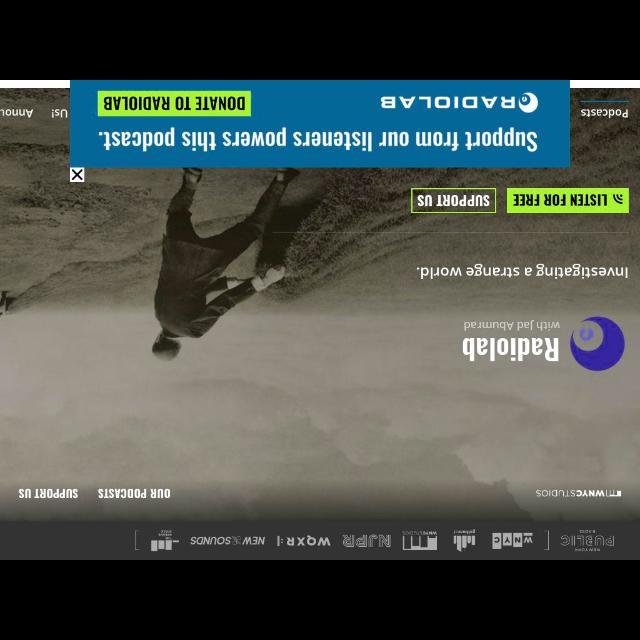backgroundimage: (1, 89, 637, 522)
icon: (131, 528, 141, 552), (543, 526, 551, 554), (613, 192, 625, 206)
iframe: (69, 82, 569, 168)
image: (456, 312, 626, 378), (530, 485, 626, 501), (559, 528, 615, 554), (190, 532, 270, 550), (488, 526, 536, 554), (339, 528, 393, 552), (276, 532, 334, 550), (144, 528, 183, 554), (399, 528, 441, 552), (449, 526, 481, 554)
text: (416, 262, 630, 282), (512, 193, 606, 207), (95, 487, 169, 503), (18, 488, 82, 502), (418, 194, 490, 206), (577, 106, 631, 120), (1, 106, 37, 118), (48, 108, 68, 120)
textbutton: (507, 188, 628, 214), (414, 190, 496, 212)
toolbar: (2, 524, 638, 558)
